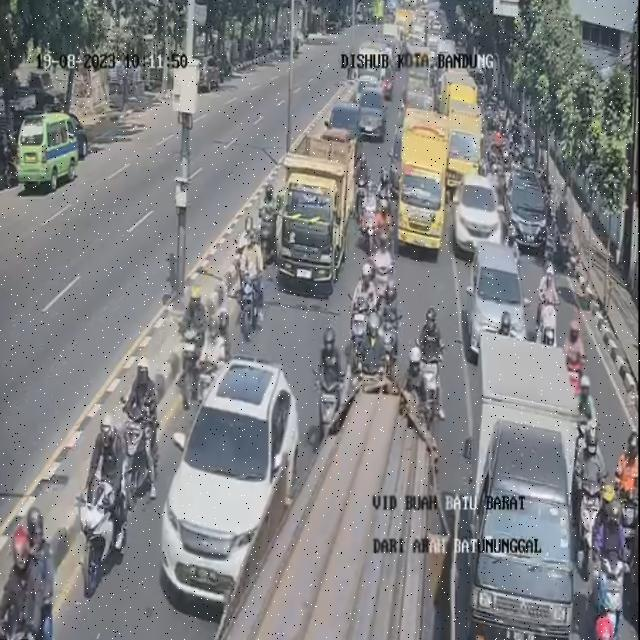cars: (148, 354, 305, 610), (467, 225, 534, 365), (454, 174, 504, 252), (504, 161, 546, 249), (355, 81, 392, 147), (332, 97, 372, 158)
motorcycle: (80, 406, 129, 580), (0, 503, 57, 639), (582, 483, 622, 637), (123, 346, 158, 491), (173, 276, 214, 387), (610, 420, 640, 558), (573, 422, 607, 531), (414, 300, 446, 414), (192, 298, 229, 392), (557, 313, 594, 402), (562, 366, 598, 456), (308, 321, 341, 419), (348, 260, 374, 351), (363, 231, 393, 298), (538, 261, 561, 340), (380, 277, 400, 365), (351, 178, 376, 248), (242, 230, 260, 325), (362, 314, 385, 388), (371, 201, 394, 264), (408, 348, 430, 408), (261, 177, 276, 258), (236, 210, 256, 269), (560, 187, 574, 269), (525, 128, 535, 164), (494, 127, 502, 159), (511, 115, 519, 146)
truck: (240, 378, 454, 640), (468, 326, 572, 640), (280, 134, 360, 285), (398, 96, 438, 248), (447, 95, 486, 185), (403, 48, 428, 104), (440, 62, 474, 100)
